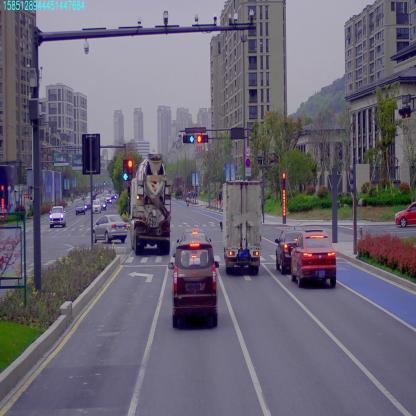traffic-light: (182, 135, 194, 145), (196, 135, 206, 144)
